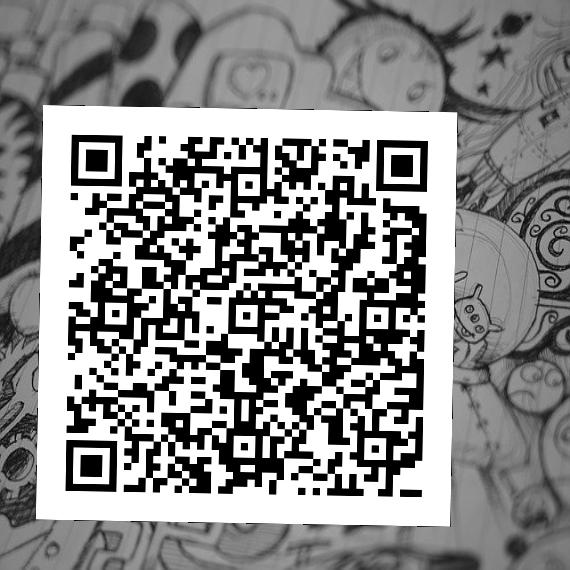qr_code: (36, 105, 457, 526)
